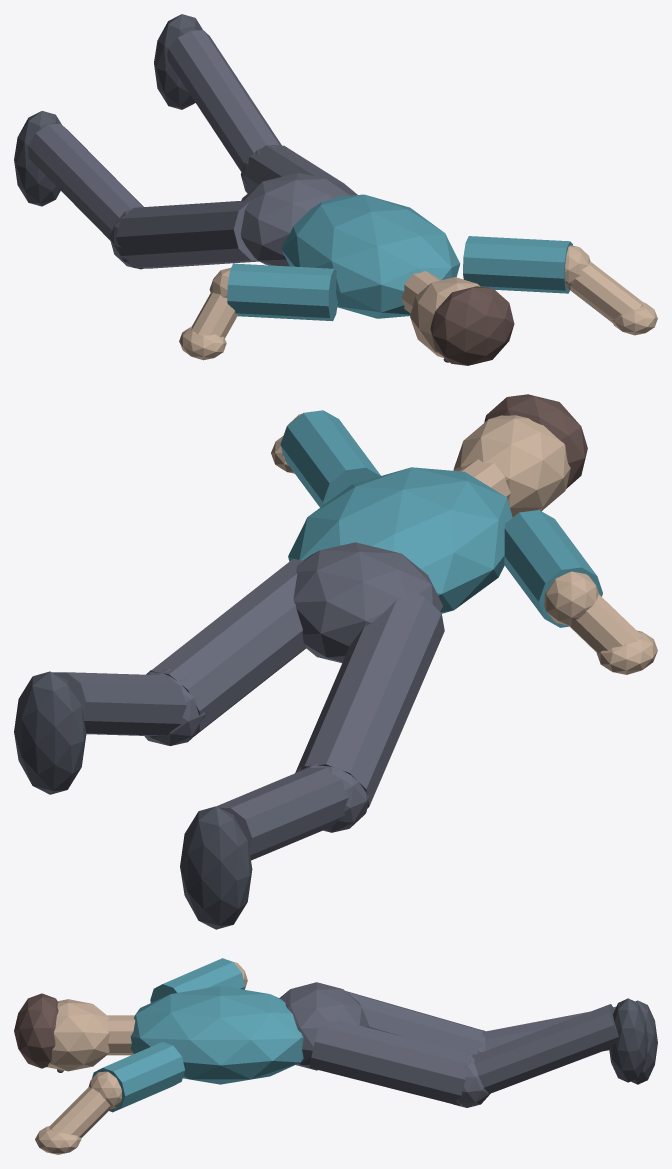
3 views of the same model, one above another, from view 1: azimuth 30°, elevation 25°; view 2: azimuth 150°, elevation 25°; view 3: azimuth 270°, elevation 25° (orthographic). The views are drawn at different scales.
Visible parts, largest first — view 1: world; view 2: world; view 3: world.
Part boxes in pixels (left/top/right/bottom): world: left=14, top=14, right=657, bottom=365; world: left=14, top=394, right=657, bottom=929; world: left=14, top=958, right=657, bottom=1154.
Bounding box in the file's own units: 1.25 × 0.5125 × 2.07.
